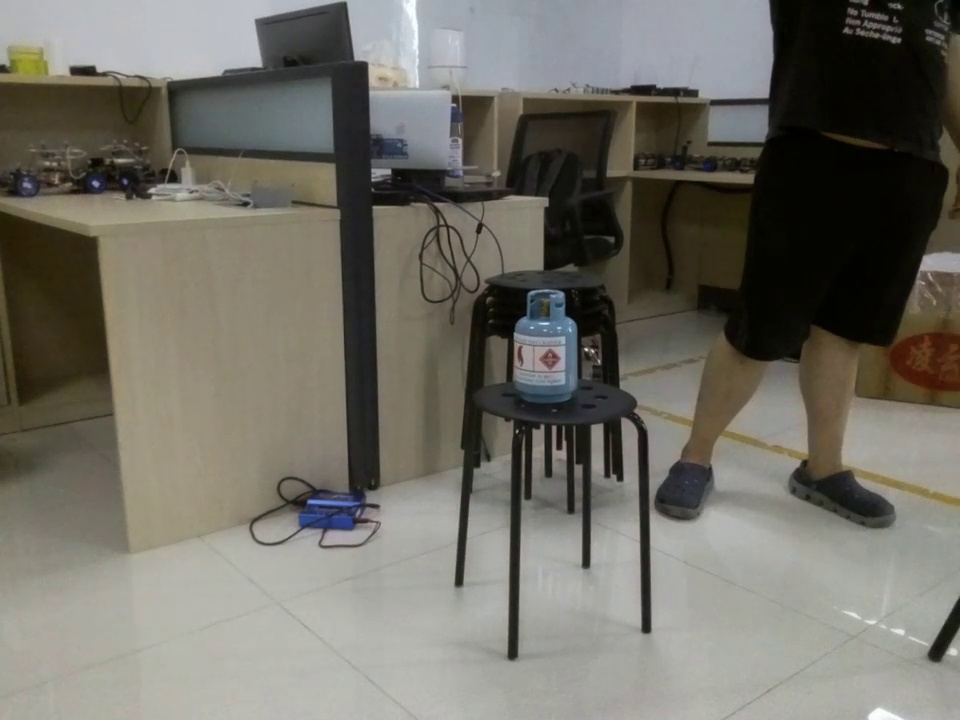gas tank: (510, 288, 587, 407)
